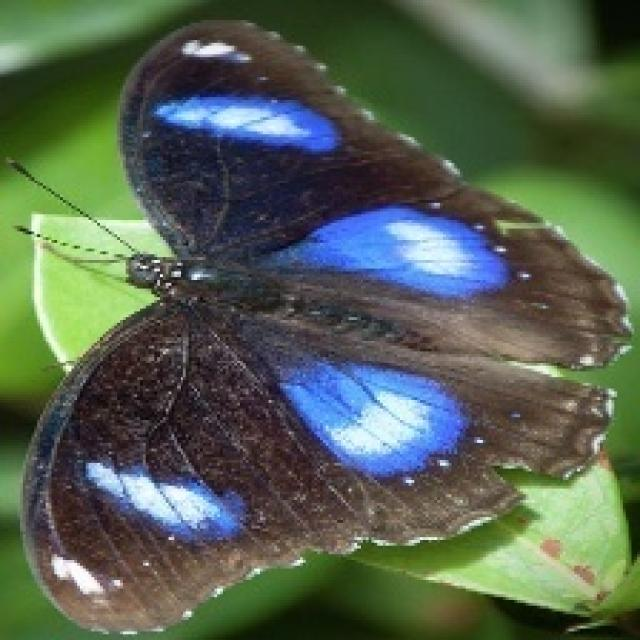butterfly: (3, 14, 634, 637)
